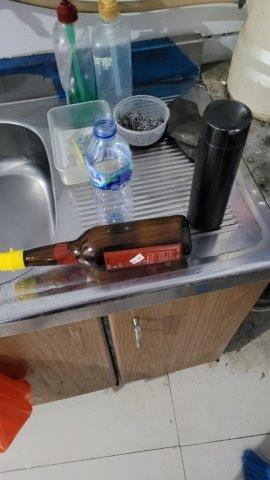botolkaca: (1, 210, 193, 280)
